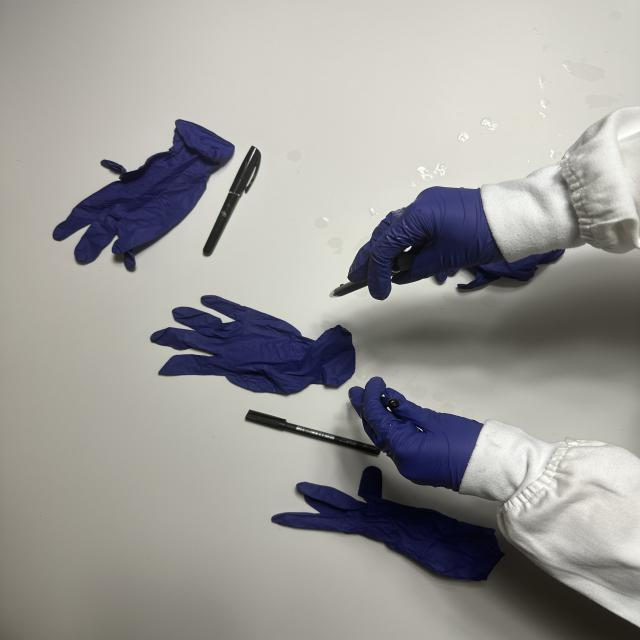gloves_contaminated: (349, 187, 504, 300), (349, 378, 482, 491)
